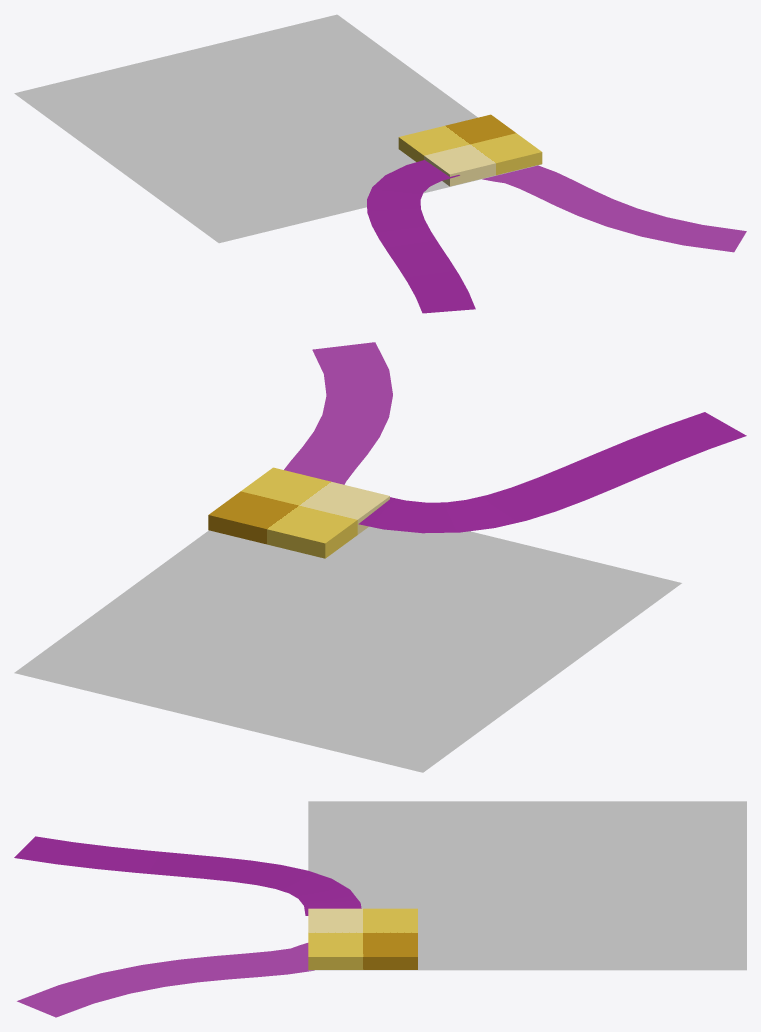
File: scroll_797_03.obj
The picture shows the model from 3 angles, top to bottom: view 1: azimuth 30°, elevation 25°; view 2: azimuth 150°, elevation 25°; view 3: azimuth 270°, elevation 25°; orthographic projection. The views are drawn at different scales.
Parts seen in each view (by area): view 1: Paper; view 2: Paper; view 3: Paper.
Part boxes in pixels (bbox=[...]): Paper: bbox=[14, 14, 746, 313]; Paper: bbox=[14, 342, 746, 772]; Paper: bbox=[14, 801, 746, 1017].
Bounding box in the file's own units: 1.16 × 0.0672 × 1.67.
